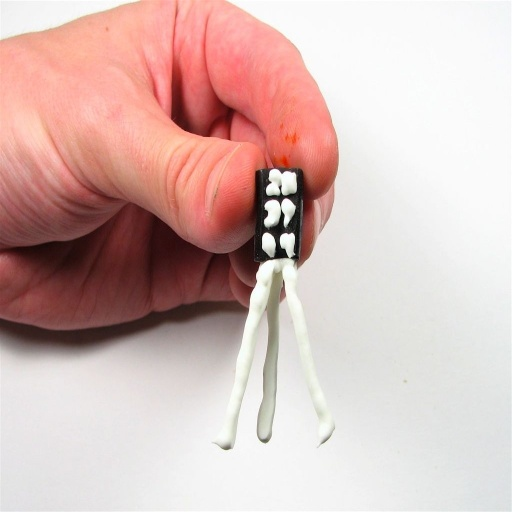hand: (0, 6, 332, 281)
